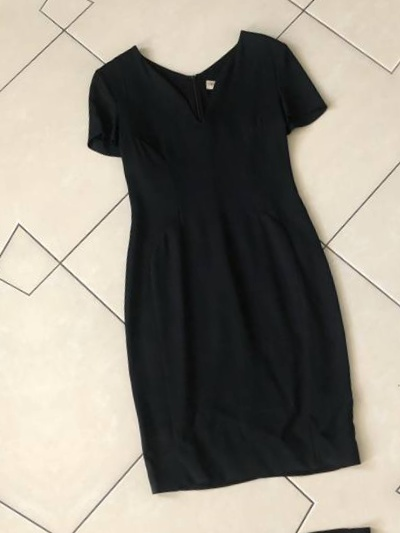Dress: (28, 9, 387, 512), (0, 62, 27, 533), (102, 515, 400, 533)
